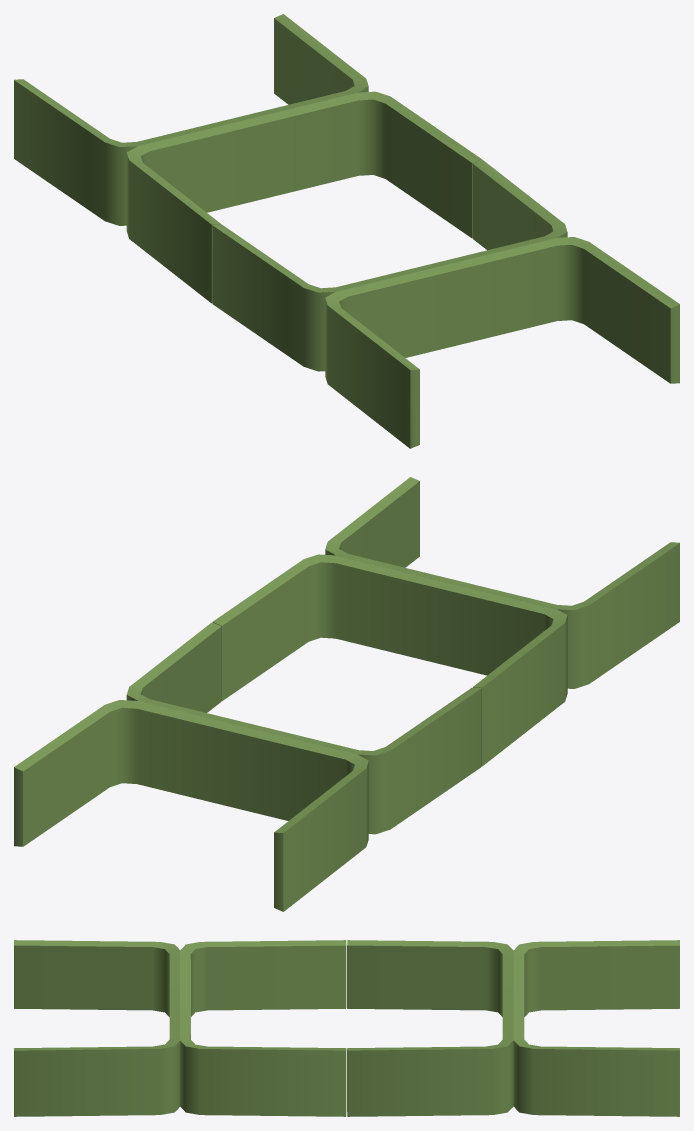
The model's file is DindingSel_Solo.glb.
3 views of the same model, one above another, from view 1: azimuth 30°, elevation 25°; view 2: azimuth 150°, elevation 25°; view 3: azimuth 270°, elevation 25° (orthographic). The views are drawn at different scales.
Parts seen in each view (by area): view 1: DindingSel, DindingSel.001, DindingSel.002; view 2: DindingSel, DindingSel.002, DindingSel.001; view 3: DindingSel, DindingSel.002, DindingSel.001.
Part boxes in pixels (<box>): DindingSel: <box>126,91,567,371</box>; DindingSel.001: <box>325,237,679,448</box>; DindingSel.002: <box>14,14,368,225</box>; DindingSel: <box>126,554,567,834</box>; DindingSel.002: <box>14,700,368,911</box>; DindingSel.001: <box>325,477,679,688</box>; DindingSel: <box>180,940,513,1116</box>; DindingSel.002: <box>513,940,679,1116</box>; DindingSel.001: <box>14,940,180,1116</box>.
Bounding box in the file's own units: 2.16 × 0.6032 × 5.5.
